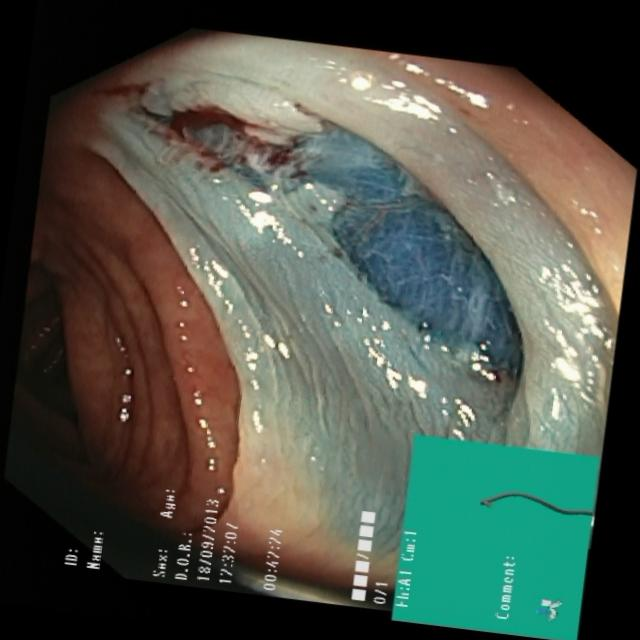dyed-resection-margins: (67, 59, 536, 381)
